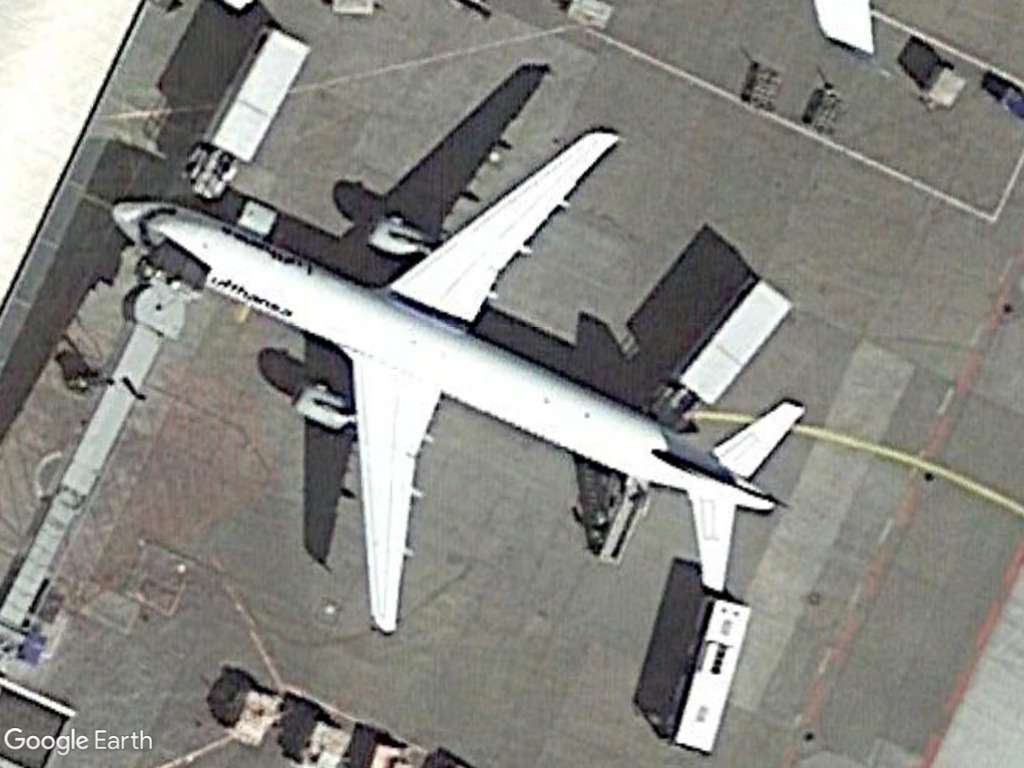airliner: (101, 119, 808, 636)
bus: (664, 595, 757, 760)
truck: (645, 280, 801, 426), (182, 24, 312, 196)
